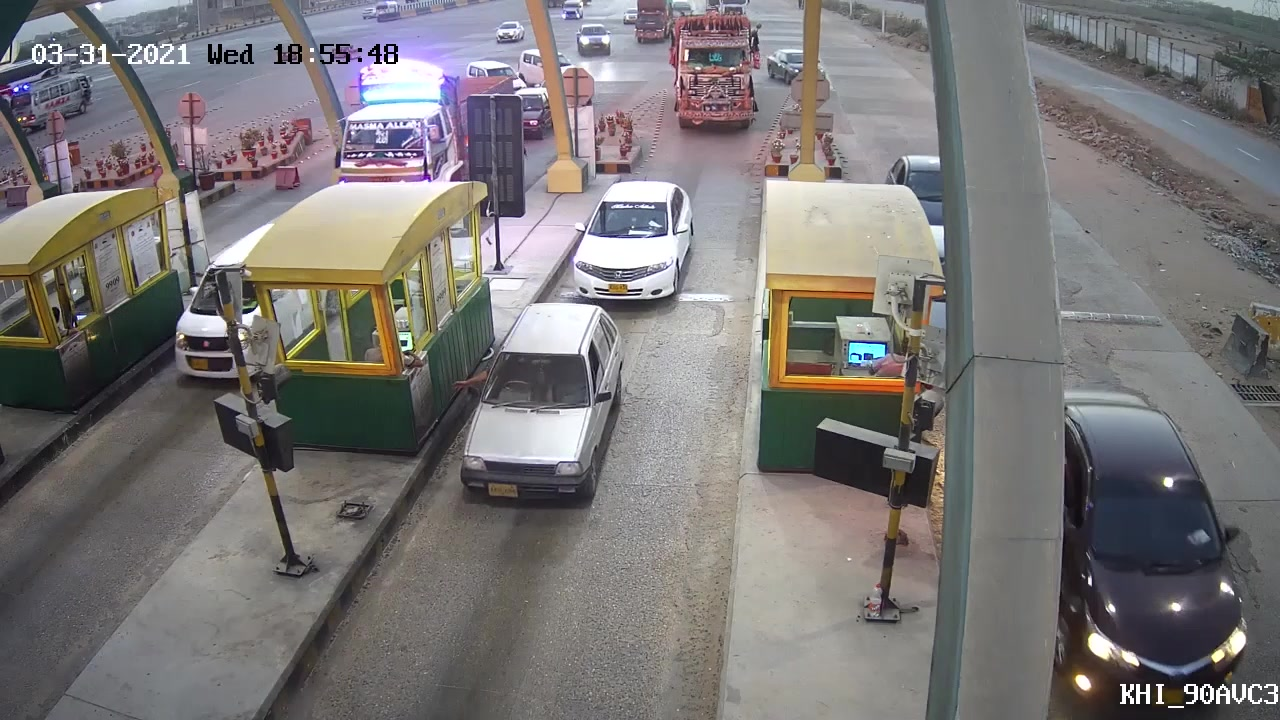F1: (460, 301, 623, 506), (567, 173, 699, 308)
